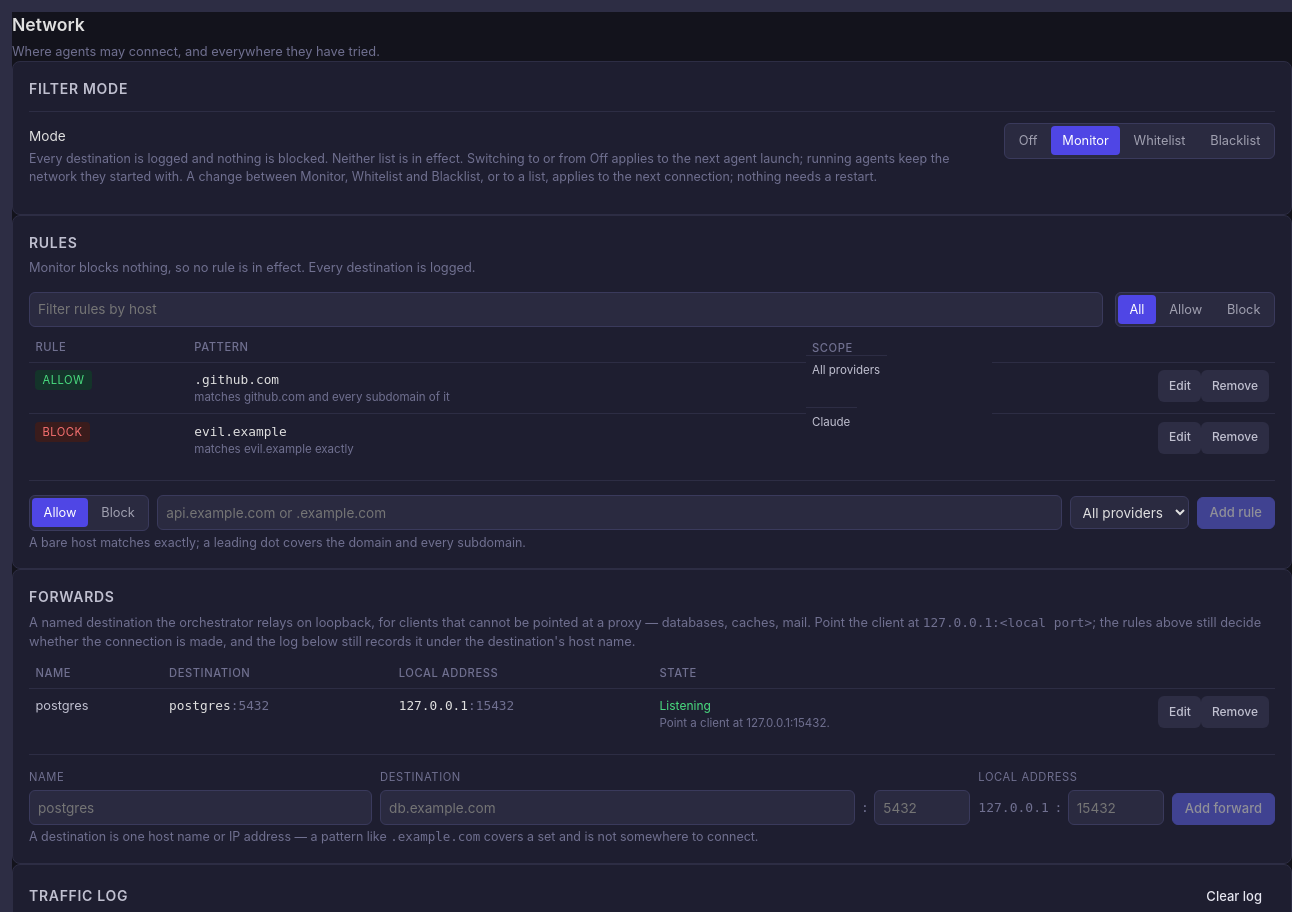
Network settings › filters the rules down to one kind
The image size is (1292, 912).
Check: the text "evil.example" is shown, box [194,424,287,439]
Click the 1st button "Allow": (1186, 310) [1158,295,1213,324]
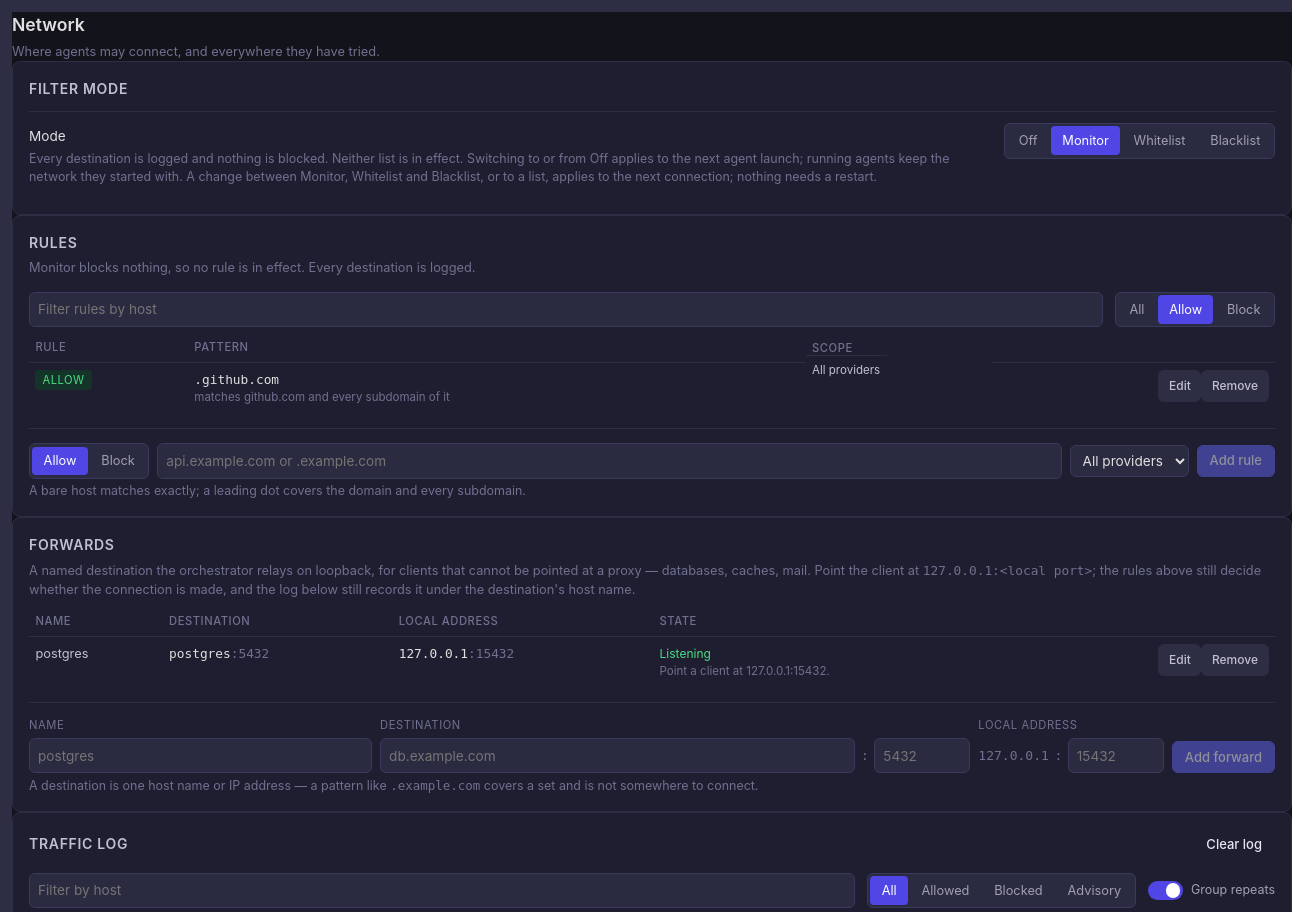
Check: the text ".github.com" is shown, box [194,372,279,387]
Check: the text "evil.example" is gone
Click the 1st button "Block": (1244, 310) [1216,295,1272,324]
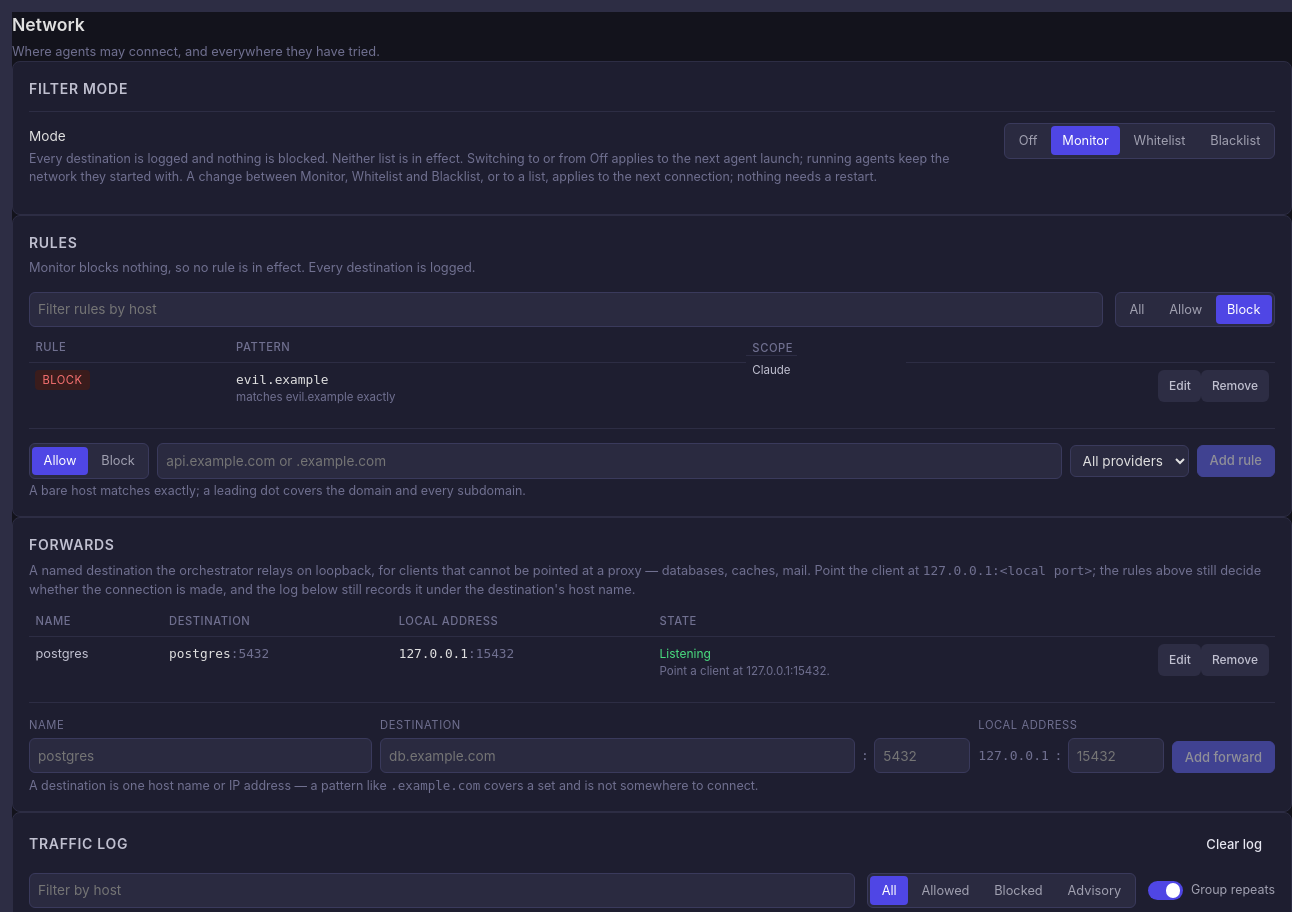
Check: the text "evil.example" is shown, box [236,372,329,387]
Check: the text ".github.com" is gone
Click the 1st button "All": (1137, 310) [1118,295,1156,324]
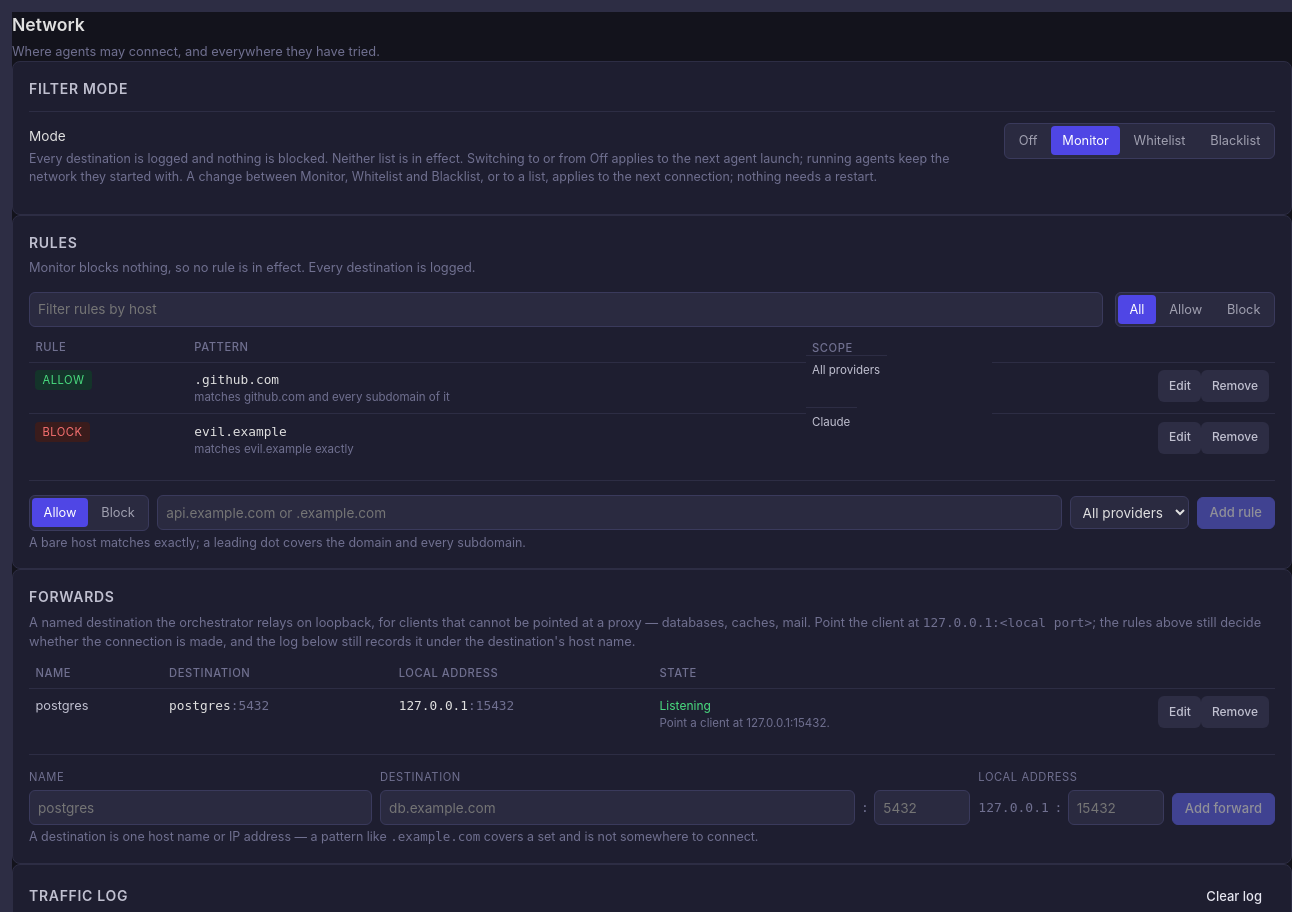
Check: the text "evil.example" is shown, box [194,424,287,439]
Check: the text ".github.com" is shown, box [194,372,279,387]
